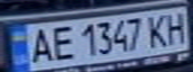1: (75, 20, 96, 57)
3: (93, 18, 115, 55)
4: (112, 16, 133, 53)
7: (124, 15, 148, 51)
A: (24, 25, 54, 64)
E: (45, 23, 75, 62)
H: (160, 9, 193, 45)
K: (145, 11, 172, 48)
